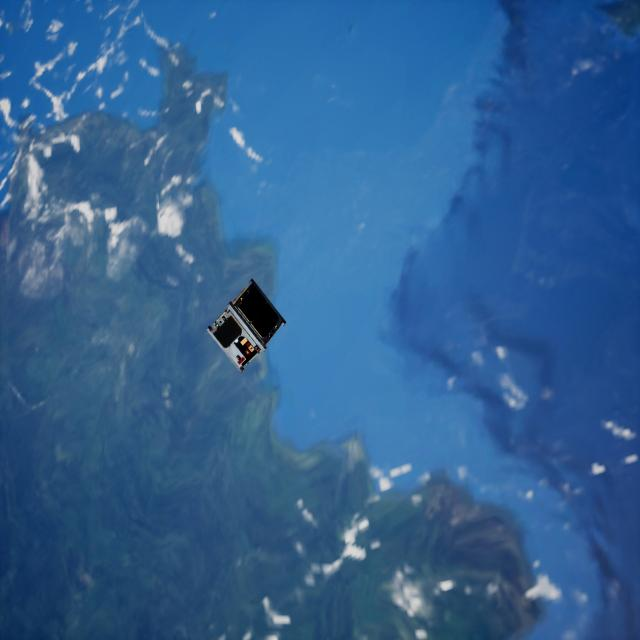medium_debris: (202, 277, 290, 378)
